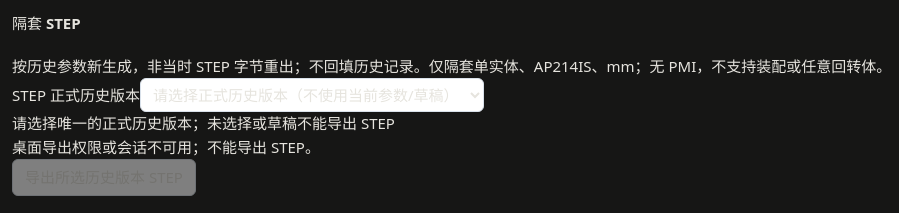
historical STEP UI › refuses missing desktop permission/API and draft parameter identity
The width and height of the screenshot is (899, 213).
Select "第 1 版" in the dropdown labelled "STEP 正式历史版本" at (312, 95), box [140,78,484,112]
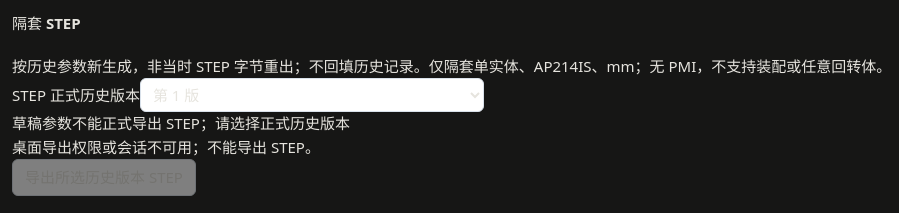
Expected: the button "导出所选历史版本 STEP" is disabled, [12,159,196,196]
Now the text "草稿参数不能正式导出 STEP；请选择正式历史版本" is shown, box [12,113,350,133]
